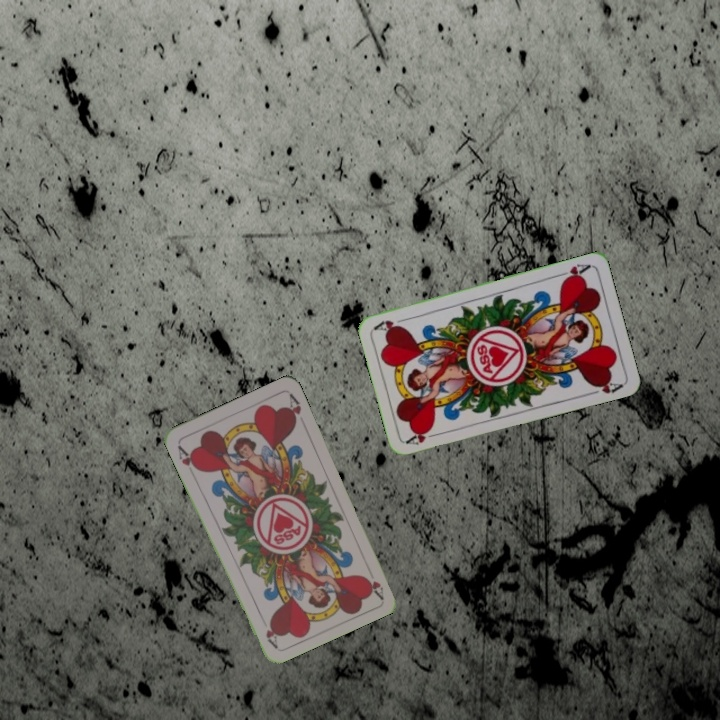HA: (553, 259, 593, 284), (173, 441, 202, 474), (403, 425, 443, 447), (361, 572, 386, 601)
